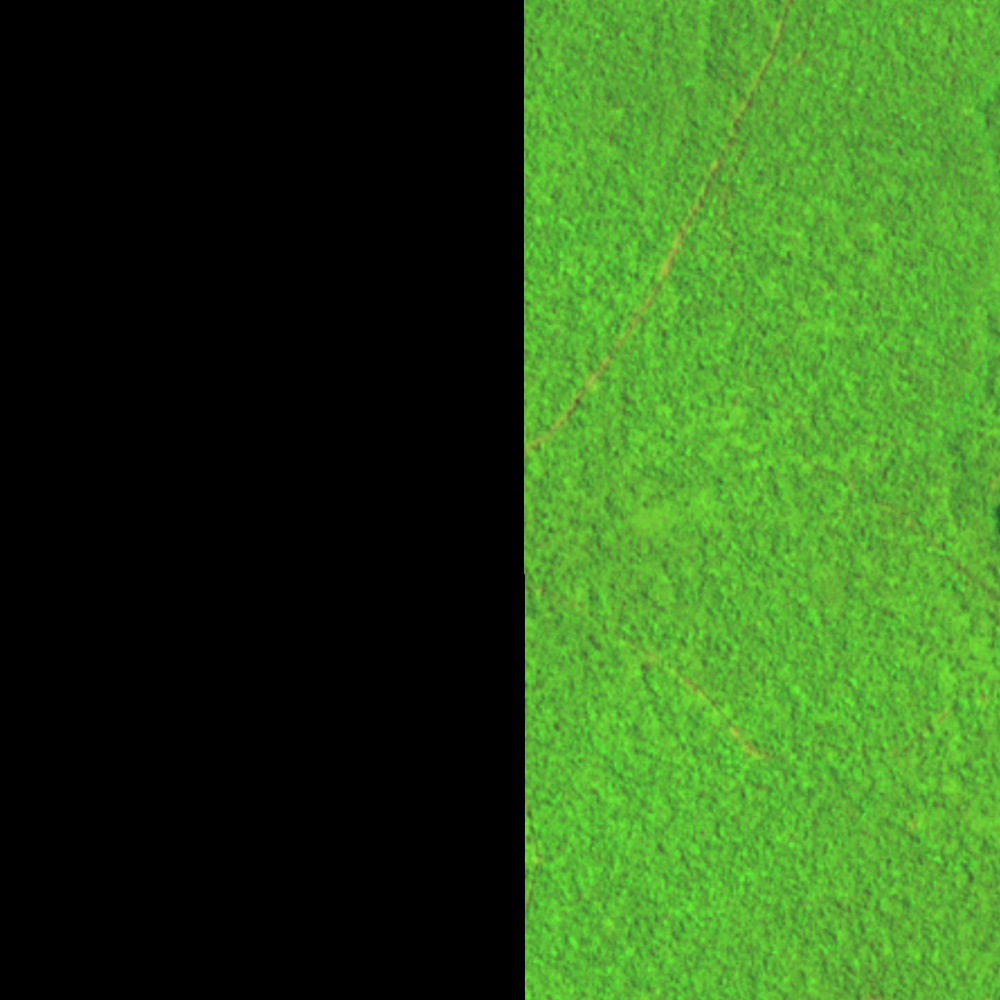legal: (726, 721, 761, 759)
